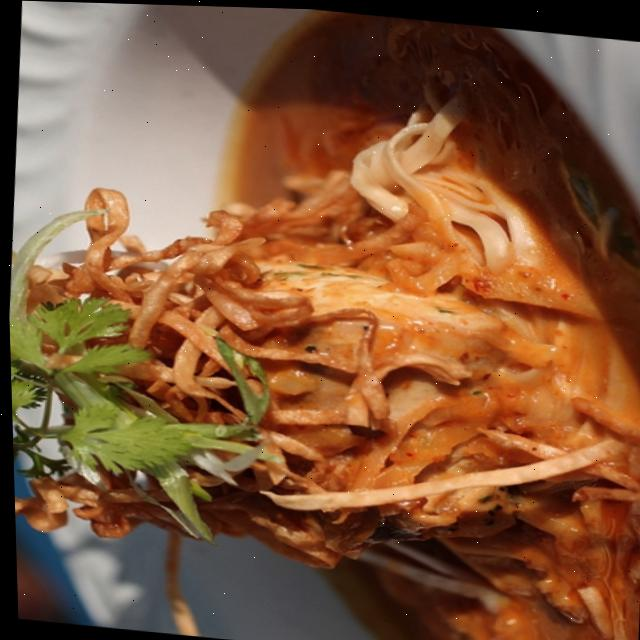面条主食: (1, 42, 640, 640)
